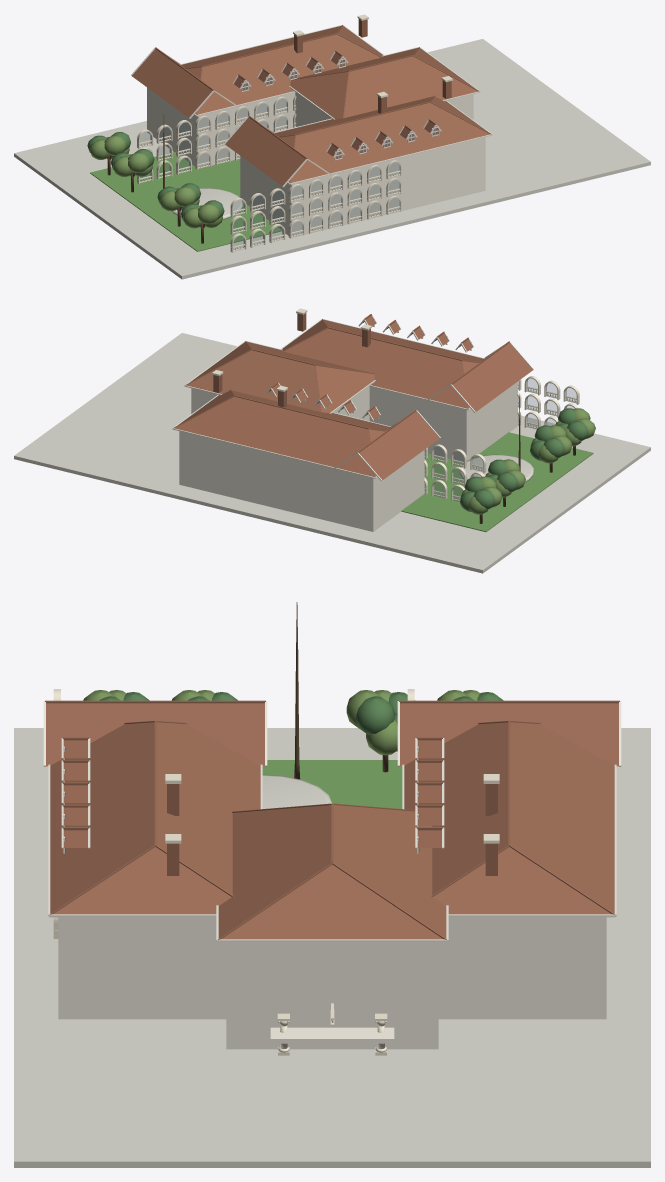
Rendered from map.glb.
3 views of the same model, one above another, from view 1: azimuth 30°, elevation 25°; view 2: azimuth 150°, elevation 25°; view 3: azimuth 270°, elevation 25° (orthographic). The views are drawn at different scales.
Size of the model in its own units: 116 by 23 by 72.
